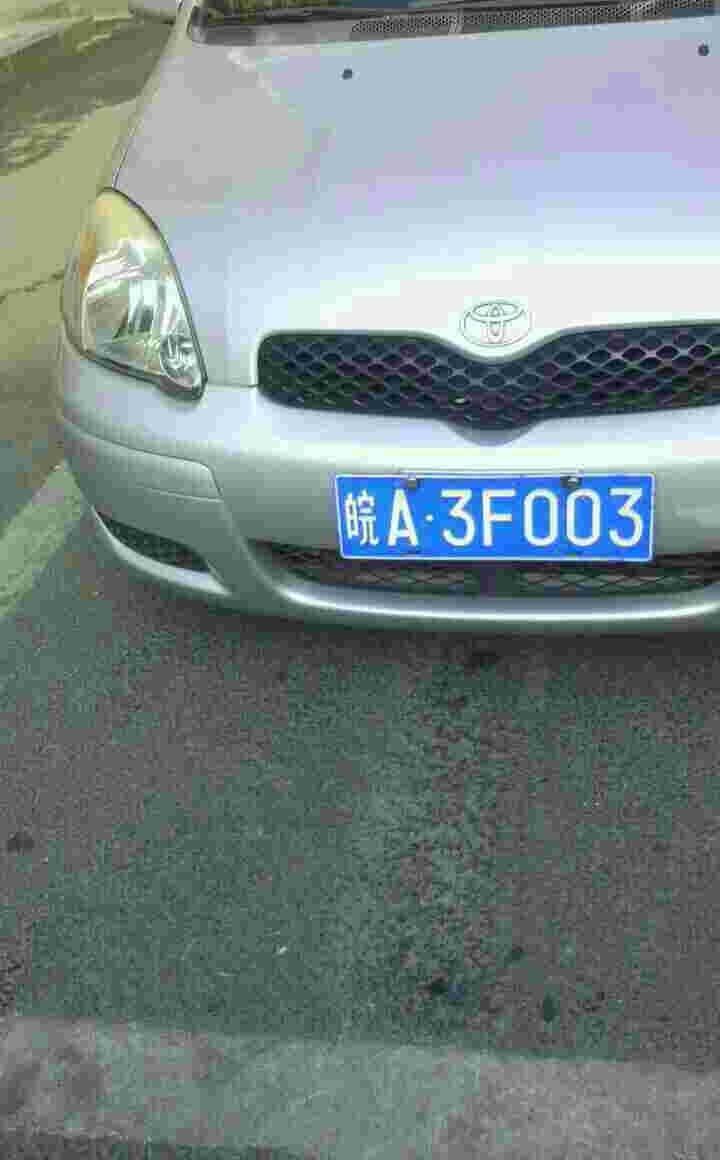license_plate: (345, 470, 662, 568)
